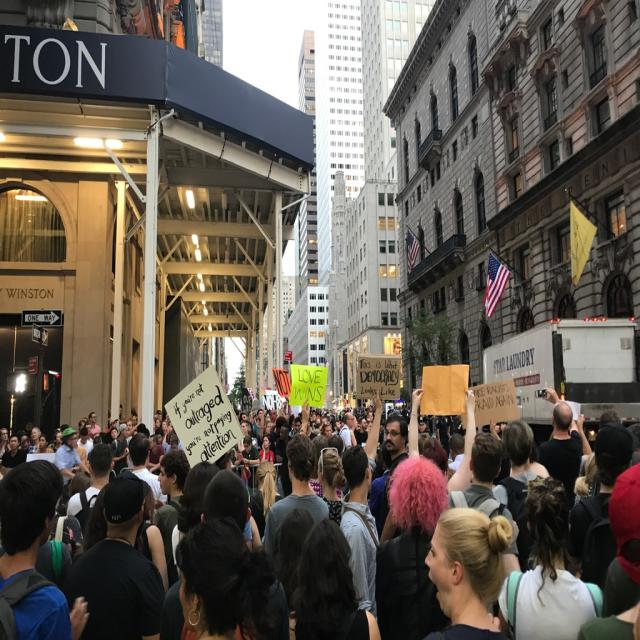body: (491, 474, 608, 639), (59, 467, 166, 639), (0, 460, 90, 639), (373, 454, 451, 640), (422, 503, 516, 639), (569, 423, 637, 595), (288, 516, 382, 640), (576, 458, 640, 640), (339, 388, 384, 624), (174, 515, 256, 640), (261, 432, 330, 558), (445, 430, 514, 553), (492, 417, 546, 572), (406, 386, 476, 496), (170, 459, 221, 583), (534, 386, 584, 509), (153, 448, 191, 590), (234, 397, 344, 445), (38, 465, 82, 578), (197, 470, 252, 556), (377, 409, 410, 548), (66, 442, 116, 522), (127, 431, 167, 523), (106, 404, 176, 444), (368, 440, 393, 543), (316, 446, 346, 526), (54, 426, 90, 485), (580, 407, 640, 434), (233, 433, 261, 489), (18, 421, 61, 452), (340, 400, 410, 418), (109, 422, 130, 478), (0, 432, 28, 468), (146, 433, 166, 477), (435, 415, 453, 463), (310, 444, 326, 497), (274, 423, 294, 464), (67, 470, 92, 501), (338, 411, 355, 452), (76, 426, 95, 462), (238, 419, 258, 453), (258, 434, 276, 465), (353, 416, 369, 446), (166, 434, 185, 454), (87, 411, 102, 435), (418, 409, 433, 433), (61, 417, 88, 429), (0, 424, 9, 455), (349, 414, 358, 433), (379, 419, 385, 443)
